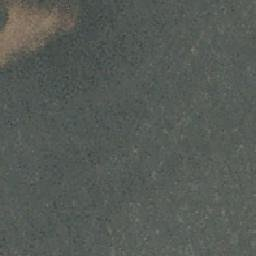debris: (1, 1, 39, 42), (43, 2, 75, 36), (3, 46, 33, 61)
